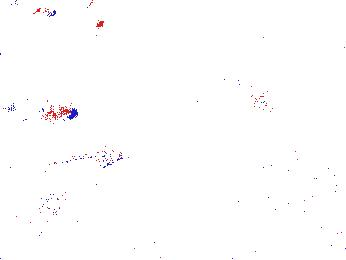glassfish: (24, 145, 125, 180)
red belly glassfish: (13, 101, 79, 125), (224, 84, 271, 111), (18, 4, 59, 22)
